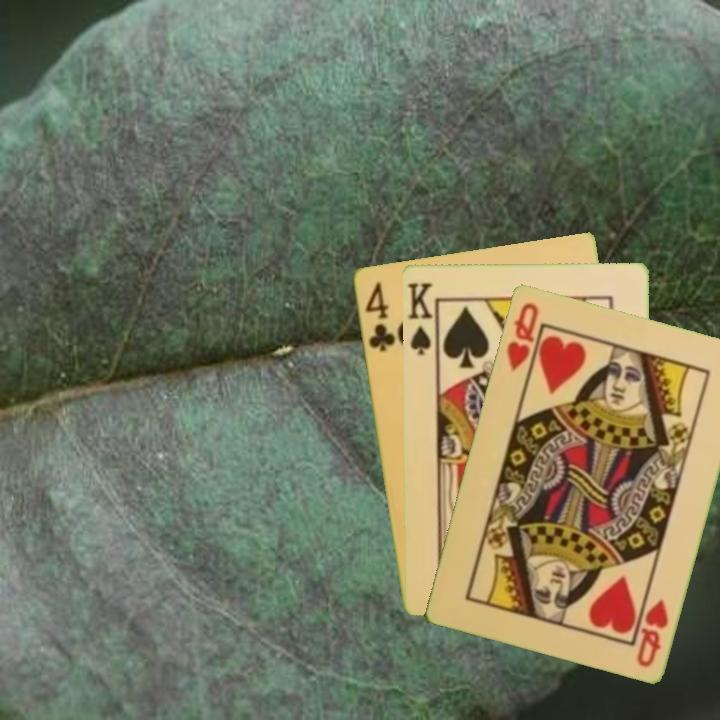4c: (361, 277, 398, 354)
Ks: (404, 278, 435, 357)
Qh: (502, 298, 541, 374), (633, 595, 671, 670)
